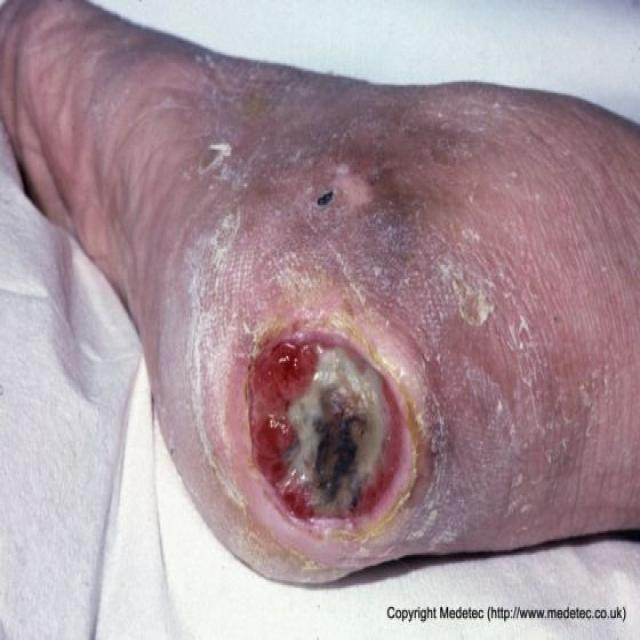stage-4: (248, 334, 406, 522)
